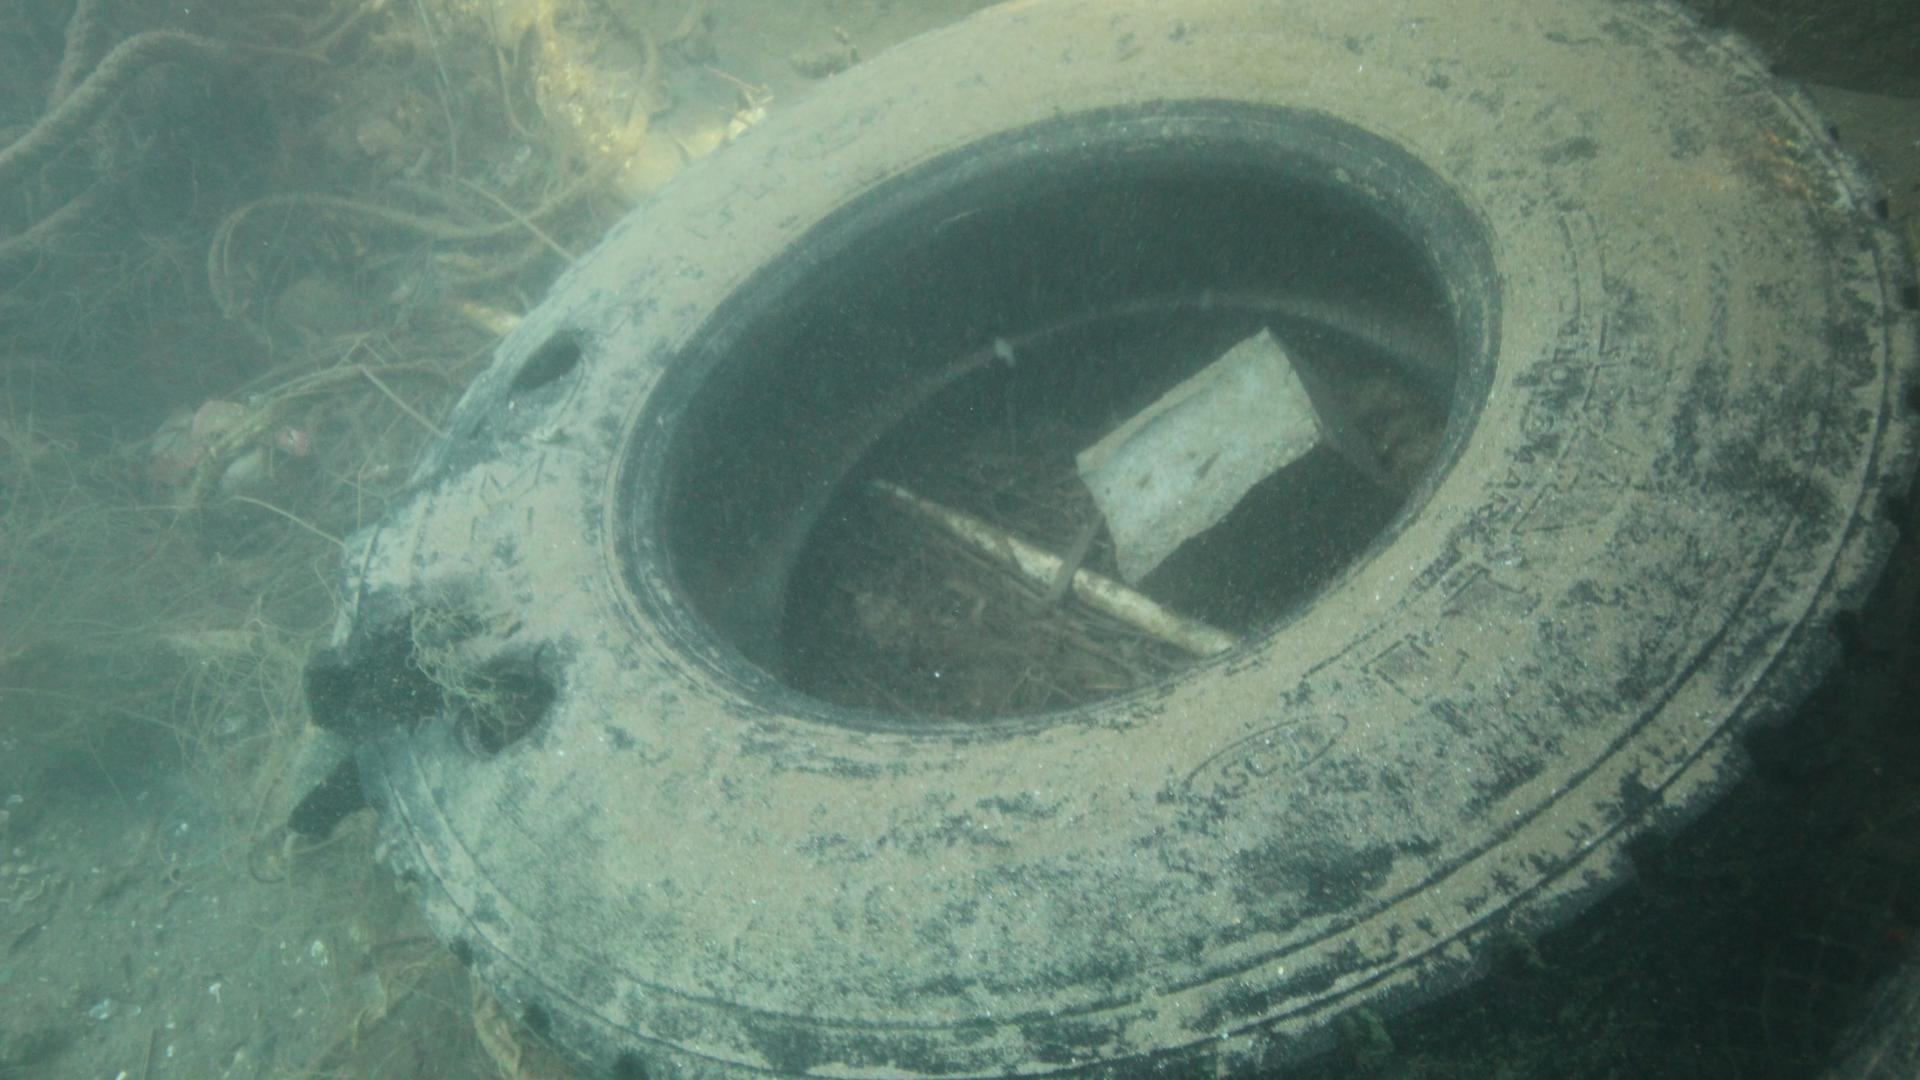bundle of ropes: (0, 0, 236, 189)
tire: (335, 0, 1920, 1080)
